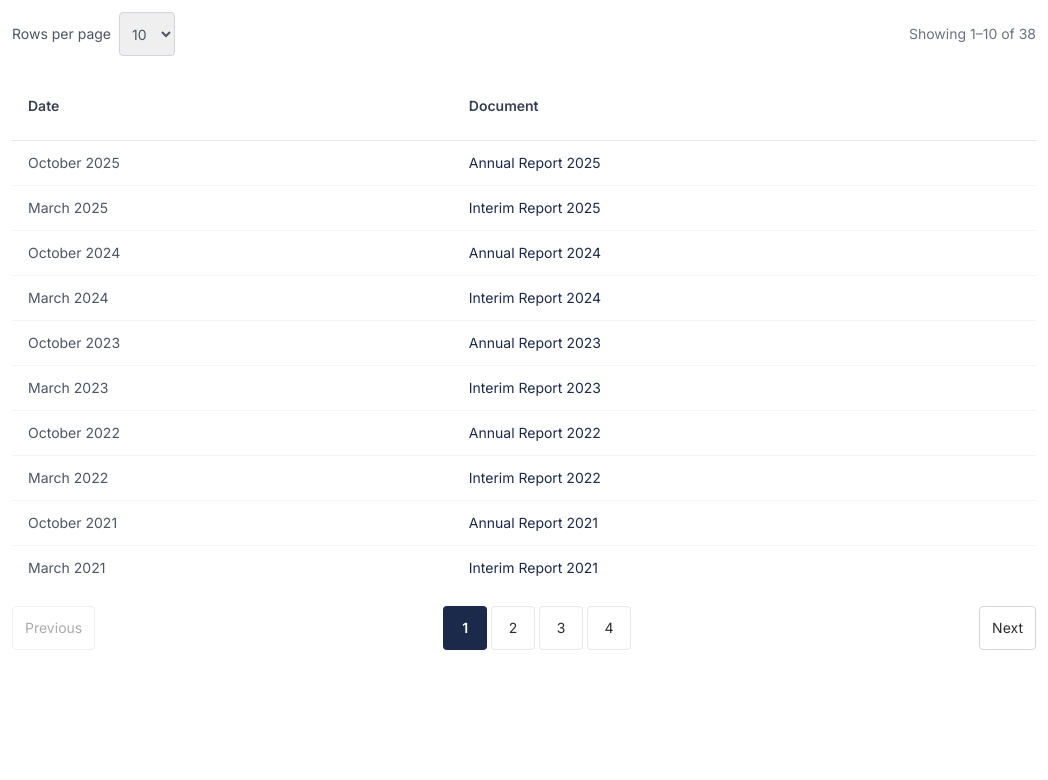
it: ReportsTable › paginates real month/year dates newest-first without any sort interaction (regression)
Expected: the text "October 2025" is shown, [12,140,453,186]
Expected: the link "Annual Report 2025" is shown, [469,154,601,171]
// Click "Page 4" — must show the OLDEST rows, not reset to page 1.
Click the button named "Page 4" at (609, 628), box [587,606,631,650]
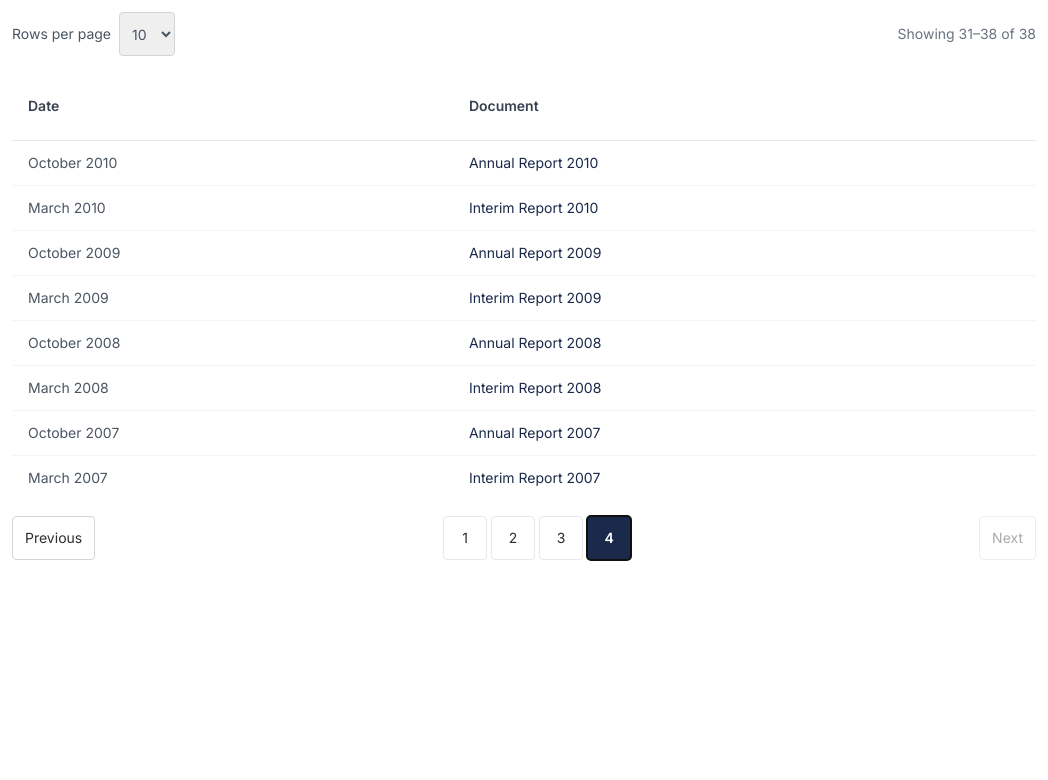
Expected: the text "Showing 31–38 of 38" is shown, [898,24,1036,44]
Expected: the text "March 2007" is shown, [12,456,453,500]
Expected: the text "October 2025" is gone
// Clicking "Page 3" must NOT jump back to page 1 either.
Click the button named "Page 3" at (561, 538), box [539,516,583,560]
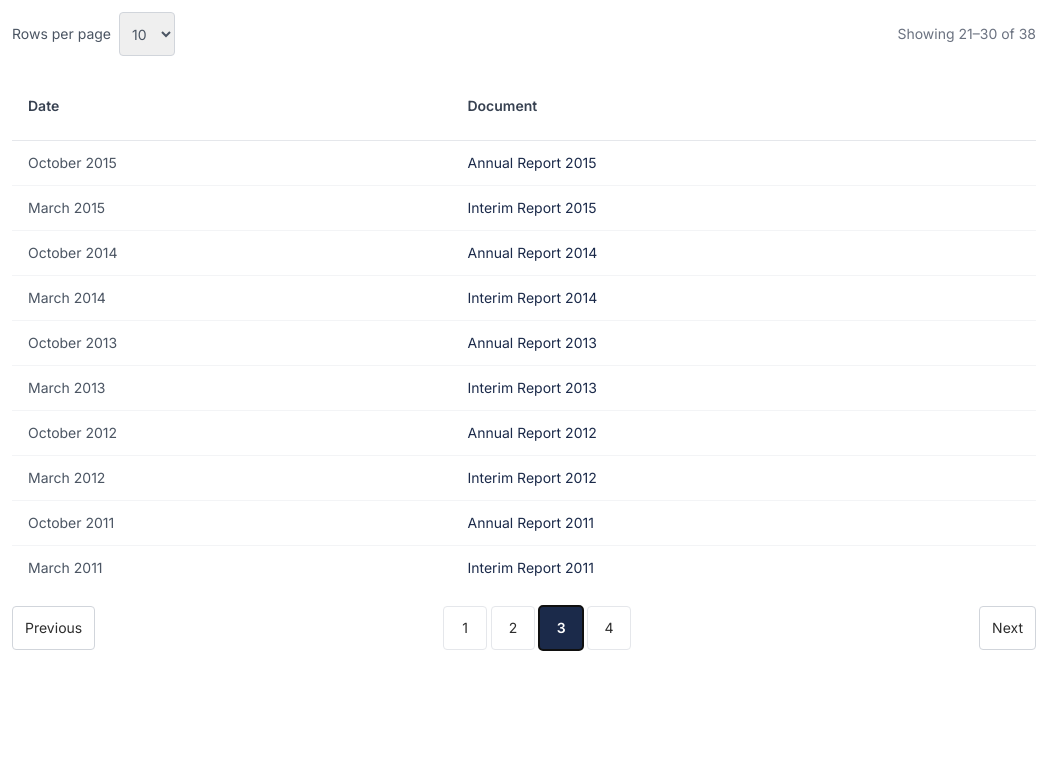
Expected: the text "October 2025" is not shown
Expected: the text "Showing 21–30 of 38" is shown, [898,24,1036,44]
Expected: the text "October 2013" is shown, [12,320,452,366]
